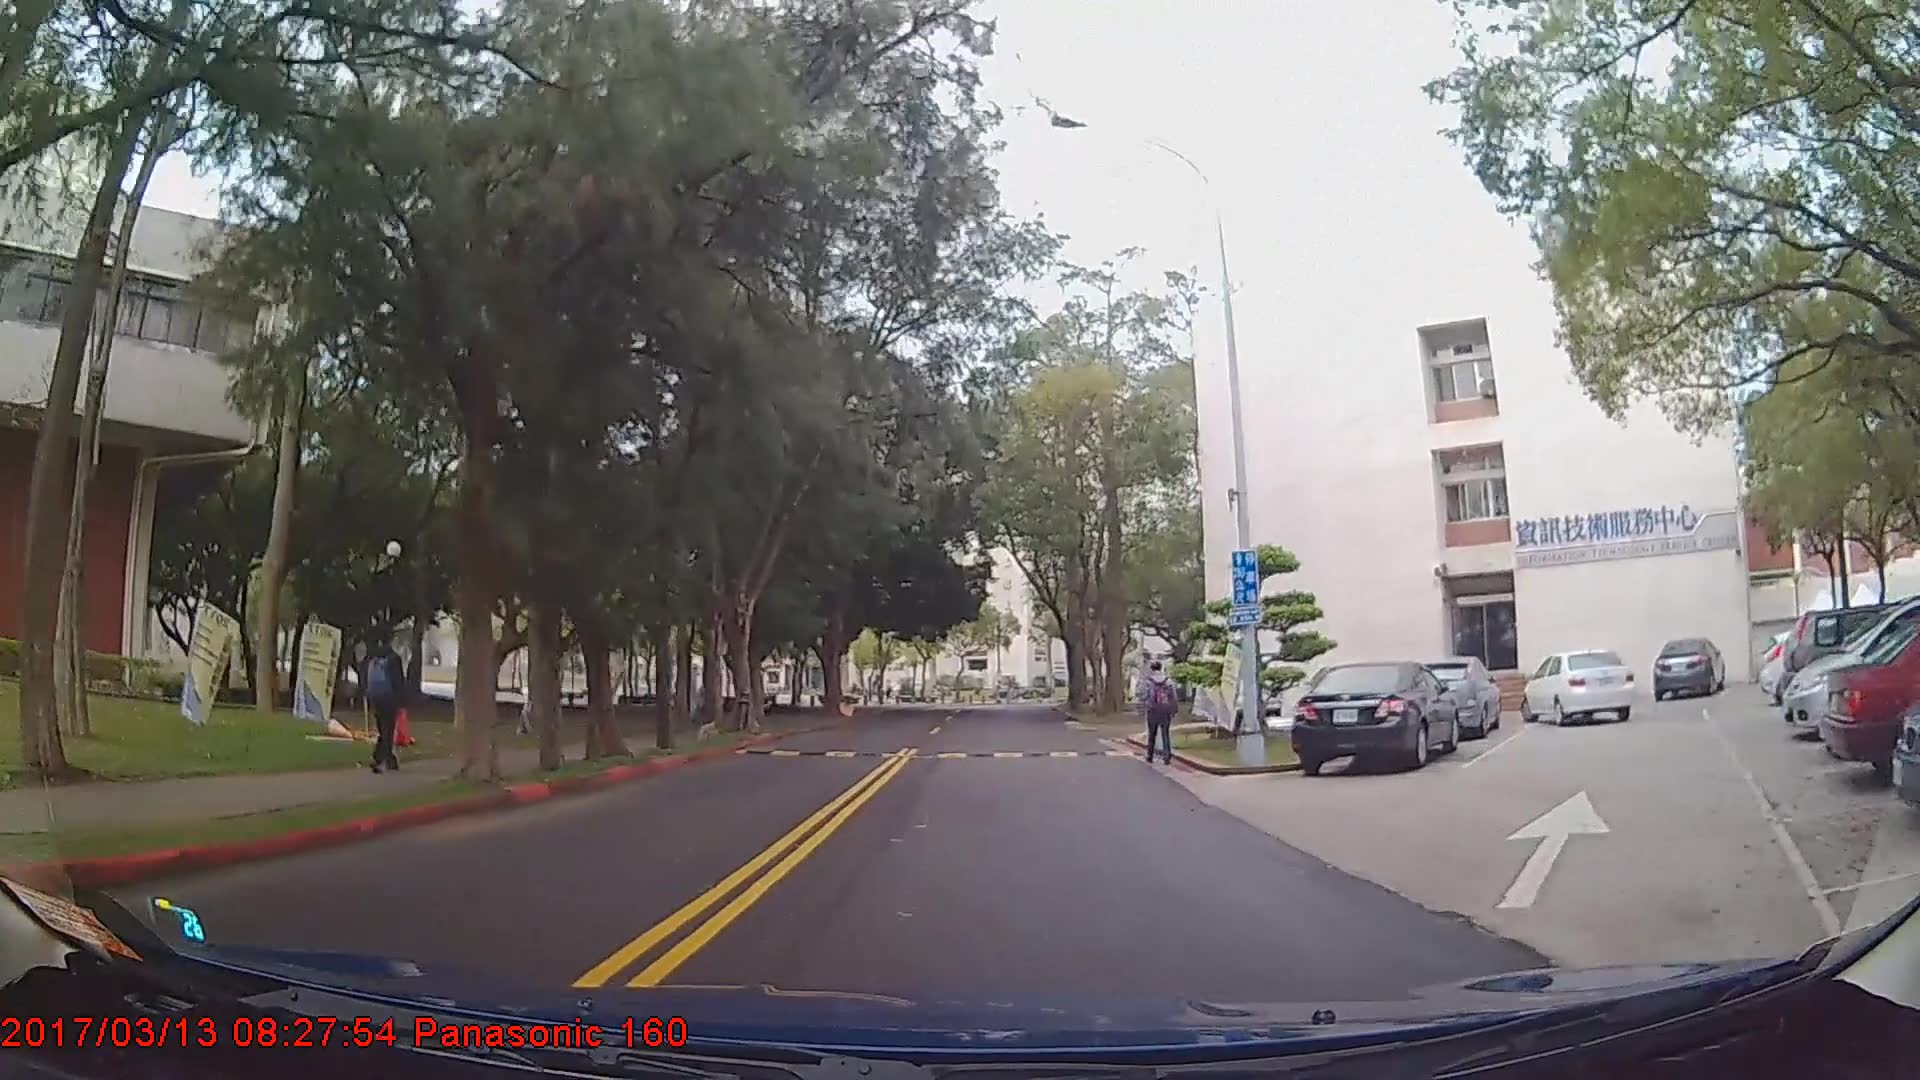pedestrian: (365, 631, 424, 783), (1145, 660, 1185, 774)
vehicle: (1290, 662, 1458, 779), (1784, 597, 1920, 740), (1784, 605, 1920, 722), (1522, 649, 1634, 727), (1403, 655, 1505, 739), (1652, 634, 1726, 700)
